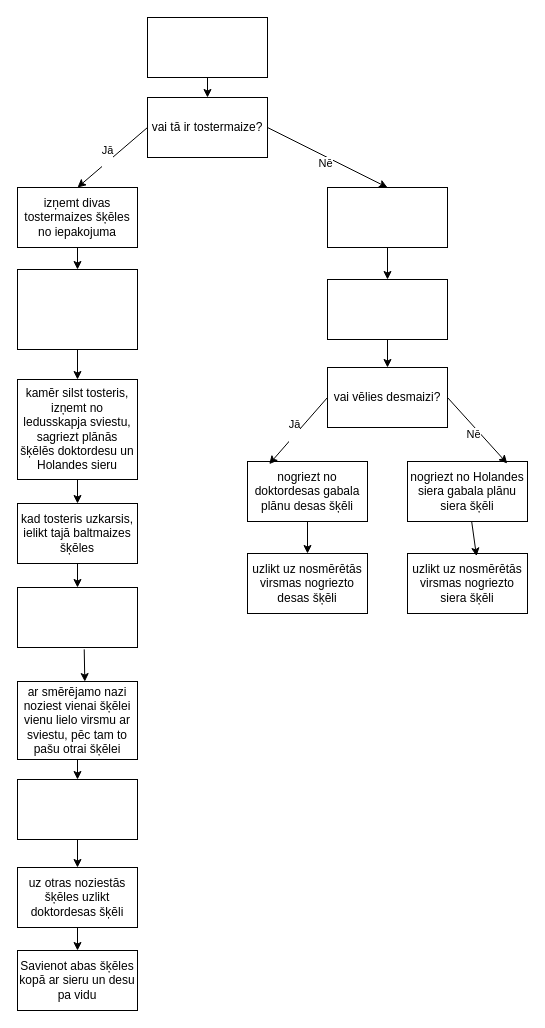
This 545x1028 diagram has some shape labels left out. The centre of each missing label's shape, as x and y in pixels:
"ar smērējamo nazi apsmērēt vienu no maizes lielajām virsmām ar sviestu" belongs at pixel 387 309.
"ieslēgt tosteri, iespraužot kontaktu kontaktligzdā un ieslēdzot ieslēgšanas pogu" belongs at pixel 77 309.
"izvēlēties maizi, ko gatavot" belongs at pixel 207 47.
"kad šķēles izlec no tostera, izņemt tās no aparāta un ielikt tīrā šķīvī" belongs at pixel 77 617.
"paņemt maizes nazi un nogriezt no maizes kukulīša vienu šķēli maizes" belongs at pixel 387 217.
"uz vienas noziestās šķēles uzlikt siera šķēli" belongs at pixel 77 809.
